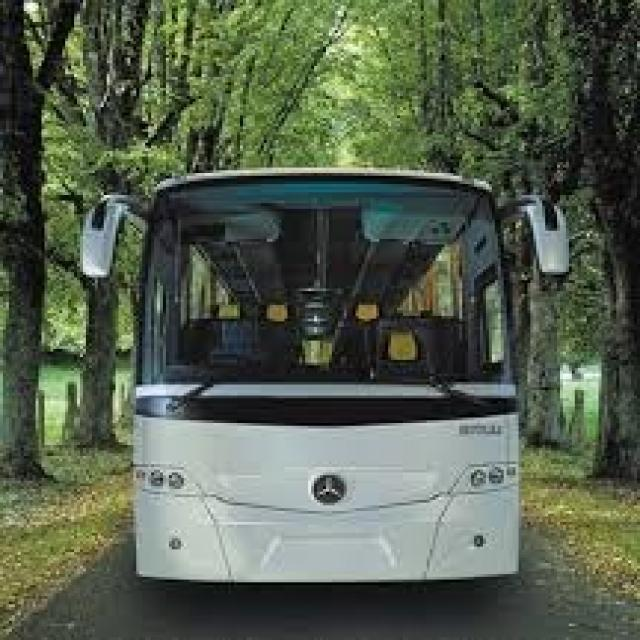bus: (63, 149, 580, 606)
